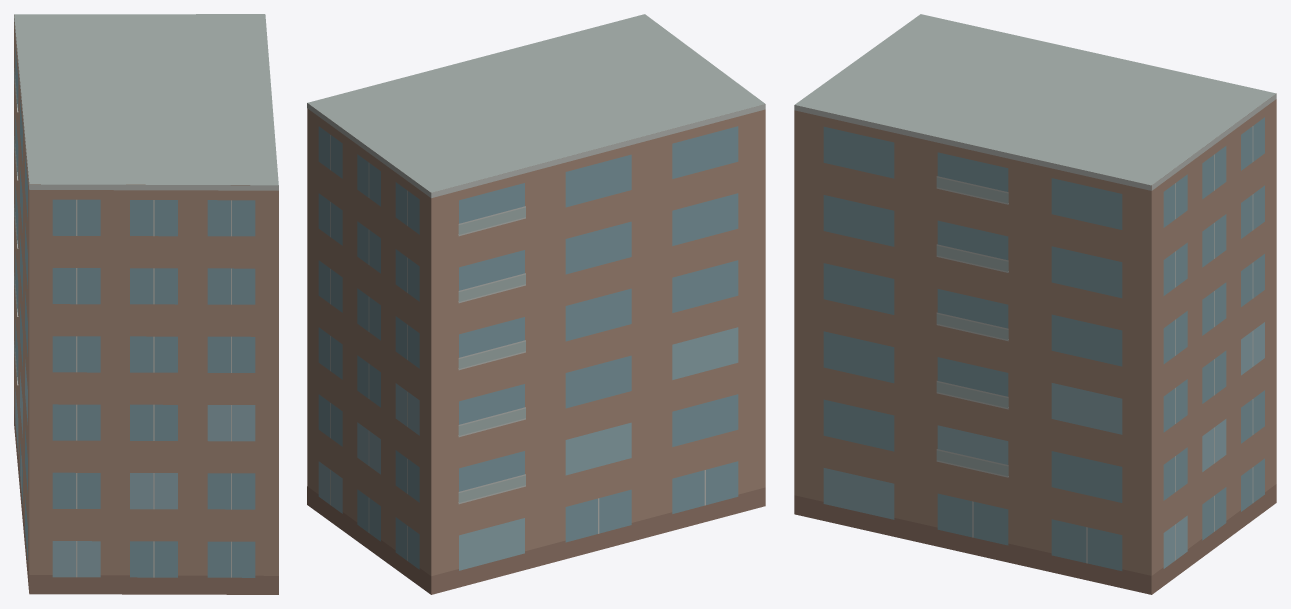
Rendered from survey-upis-32656142.glb.
3 renders of one model, left to right at view 1: azimuth 30°, elevation 25°; view 2: azimuth 150°, elevation 25°; view 3: azimuth 270°, elevation 25°, orthographic.
Visible parts, largest first — view 1: survey-upis-32656142.tmp; view 2: survey-upis-32656142.tmp; view 3: survey-upis-32656142.tmp.
Boxes of the visible parts, x1,y1,x2,y2 form: survey-upis-32656142.tmp: (14,14,278,594); survey-upis-32656142.tmp: (307,14,765,594); survey-upis-32656142.tmp: (794,14,1276,594).
Size of the model in its own units: 16.45 by 18.3 by 19.54.
